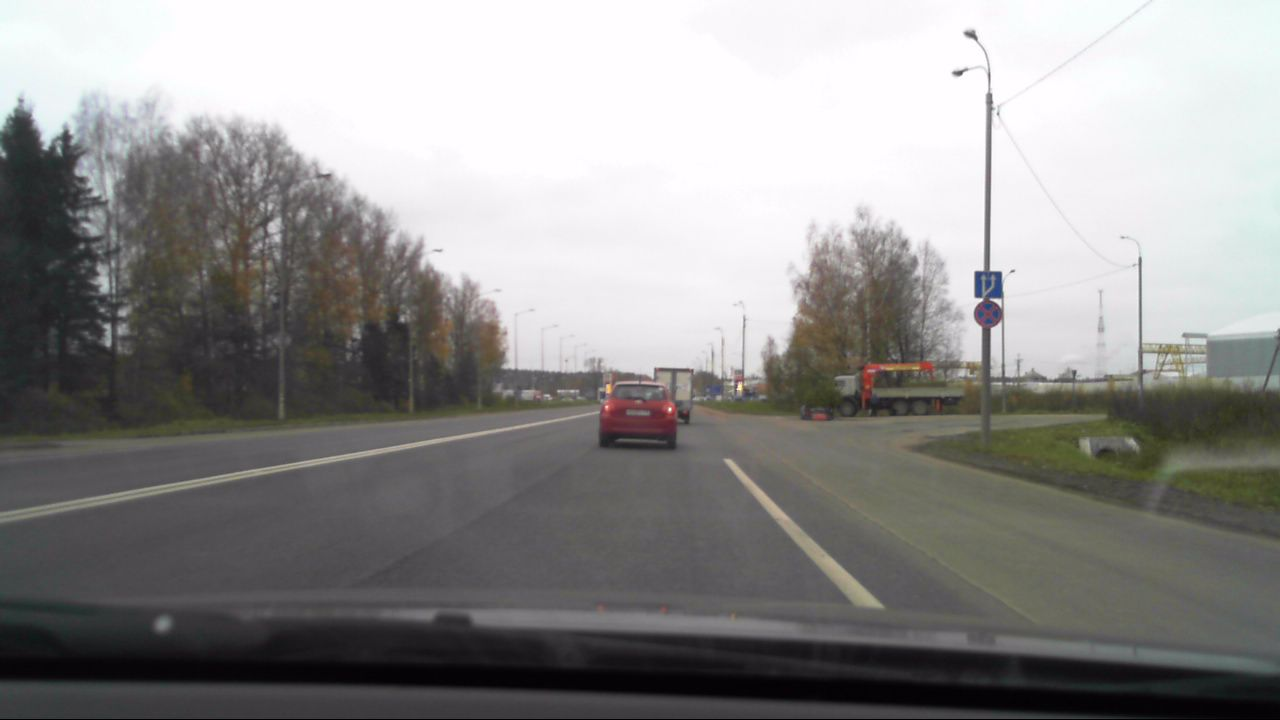No Parking: (975, 299, 1003, 330)
